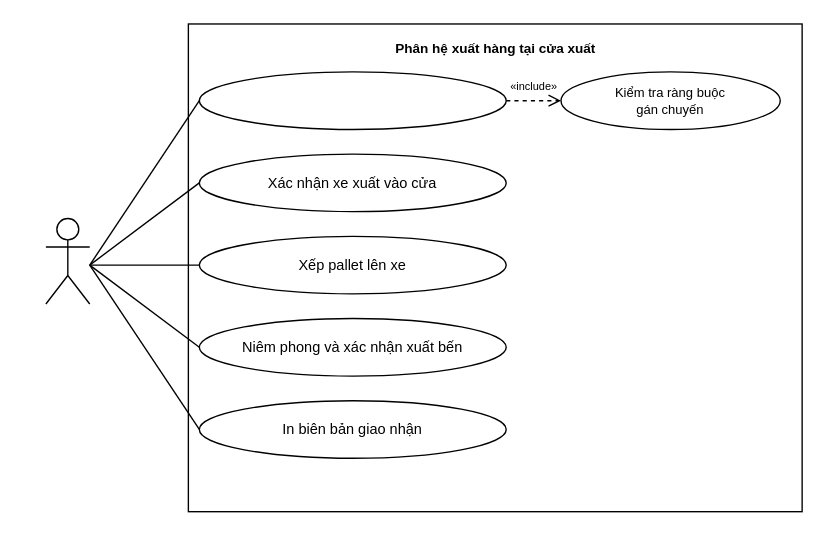
Some shapes in this 826 by 536 pixel diagram are drawn without their labels. The shapes that lost their labels are listed below. From the top down, each one's box as (x1, y1, x2, y2) in pixels, then its label:
(198, 71, 506, 129): Gán pallet vào chuyến xuất
(45, 217, 90, 304): NV Outbound
